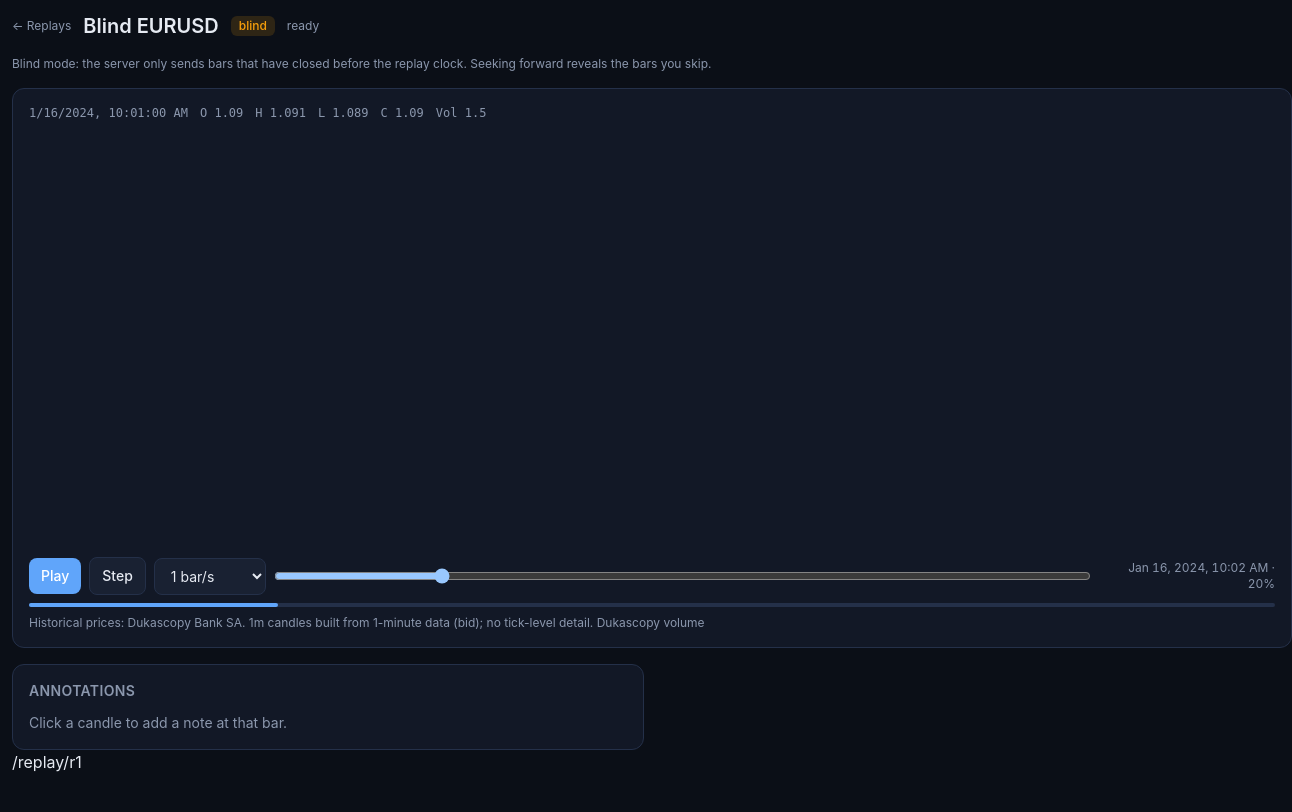
Test: replay player › reveals the next bars from the server when stepping in blind mode
The image size is (1292, 812).
Expected: the text with test id "replay-state" reads "ready", [287,18,319,33]
Click the button "Step" at (118,576), box [89,557,146,595]
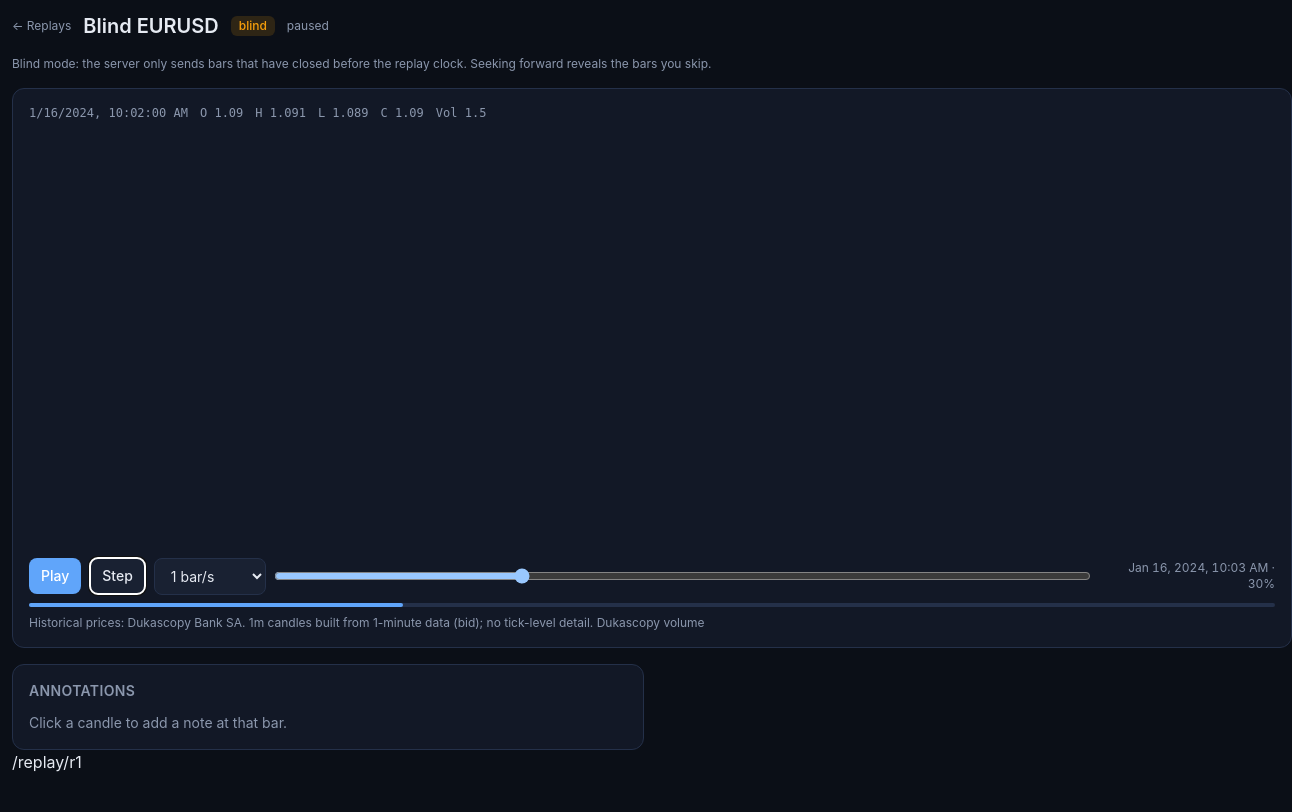
Result: the text with test id "replay-state" reads "paused" at [287,18,329,33]
